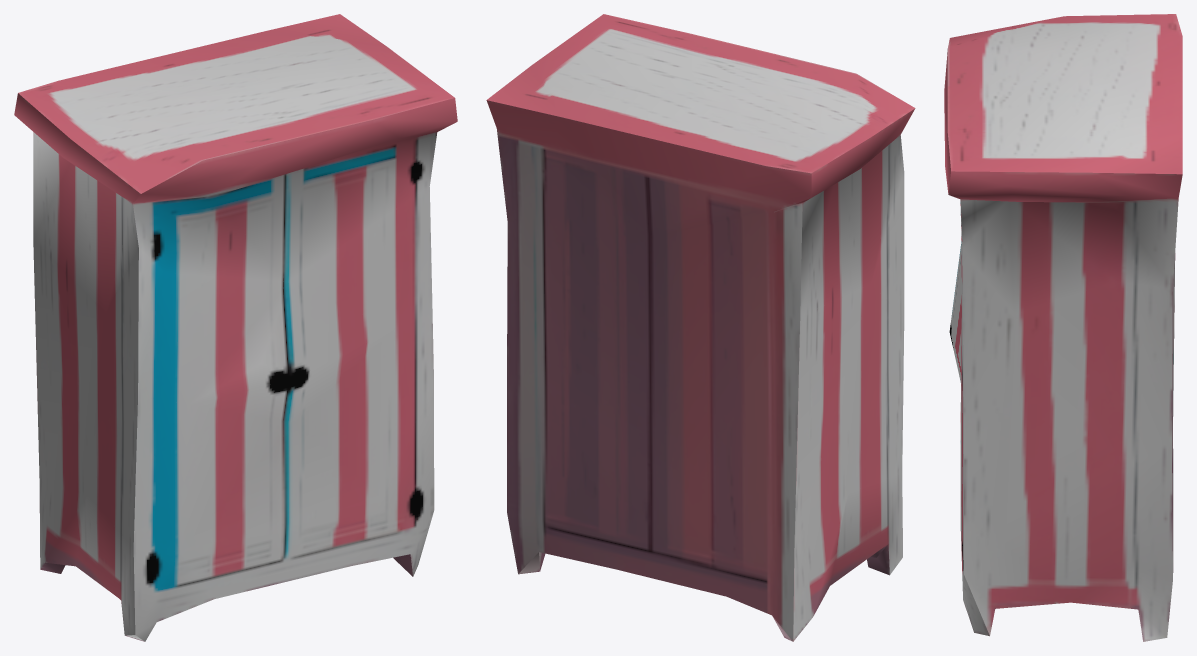
The model's file is beachhut-striped-cabinet.glb.
3 views of the same model, side by side, from view 1: azimuth 30°, elevation 25°; view 2: azimuth 150°, elevation 25°; view 3: azimuth 270°, elevation 25° (orthographic).
Visible parts, largest first — view 1: geometry_0; view 2: geometry_0; view 3: geometry_0.
Part boxes in pixels (left/top/right/bottom): geometry_0: left=14, top=14, right=457, bottom=641; geometry_0: left=486, top=14, right=915, bottom=641; geometry_0: left=944, top=14, right=1182, bottom=641.
Size of the model in its own units: 0.7151 by 1 by 0.4492.
Materials: 1 (1 with a texture image).
